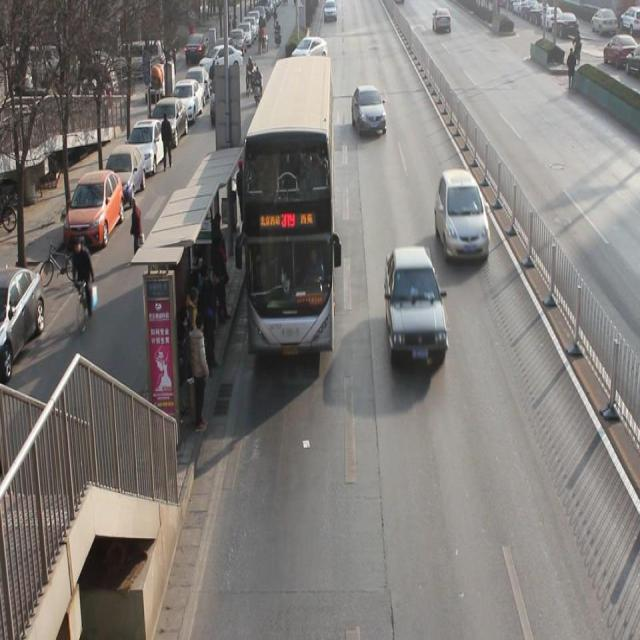car: (385, 253, 446, 368), (437, 176, 490, 264), (350, 87, 388, 135), (299, 38, 328, 67)
van: (242, 54, 335, 348)
